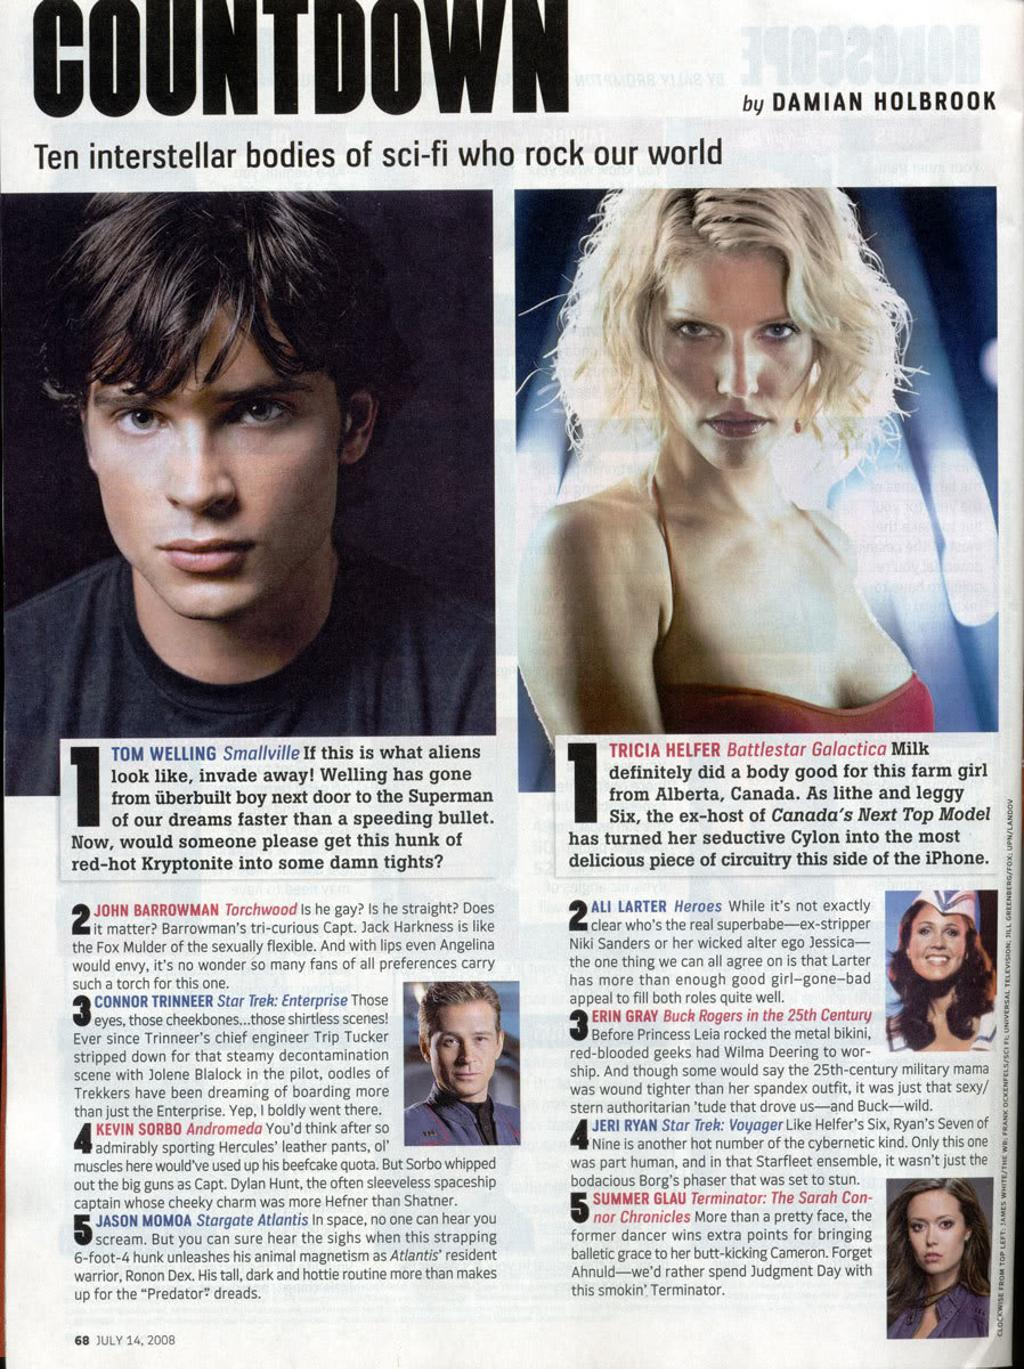face: (85, 283, 337, 619), (646, 244, 813, 471), (430, 1004, 497, 1096), (907, 1192, 964, 1274), (911, 905, 965, 980)
